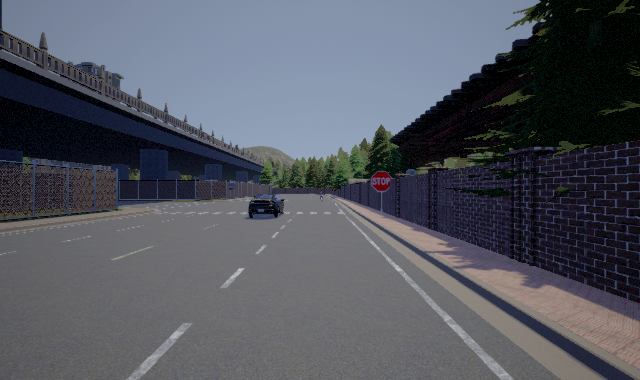traffic_sign: (371, 171, 392, 192)
vehicle: (248, 194, 285, 218)
